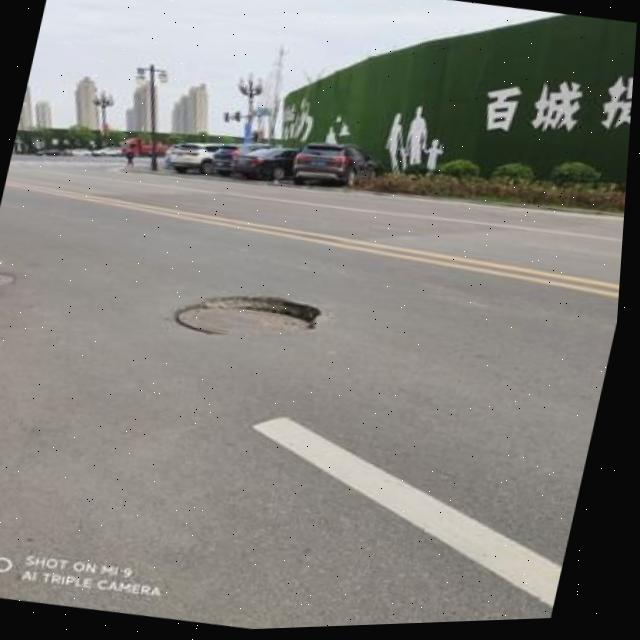manhole: (158, 272, 341, 358)
